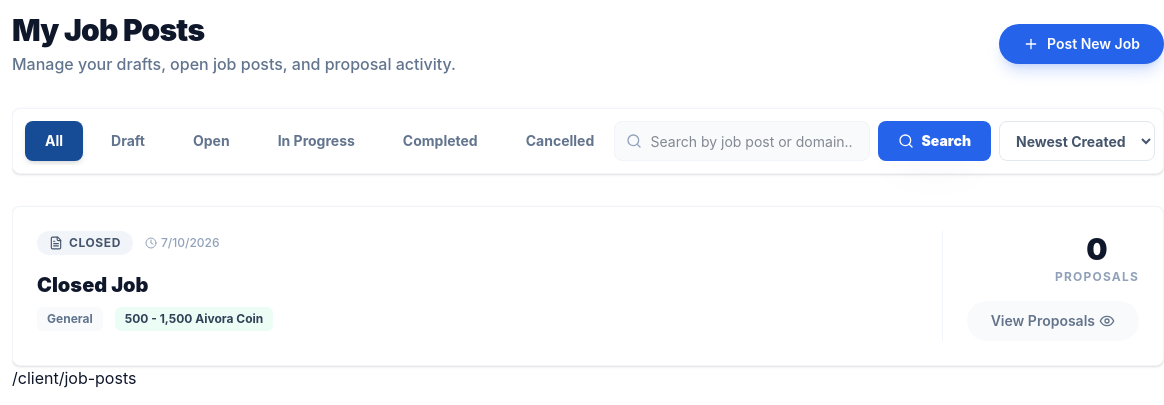
Test case: MyJobPostsPage › Title navigation › keeps closed job posts separate from cancelled job posts
Click the link "Closed Job" at point(93, 285), box [37,271,148,299]
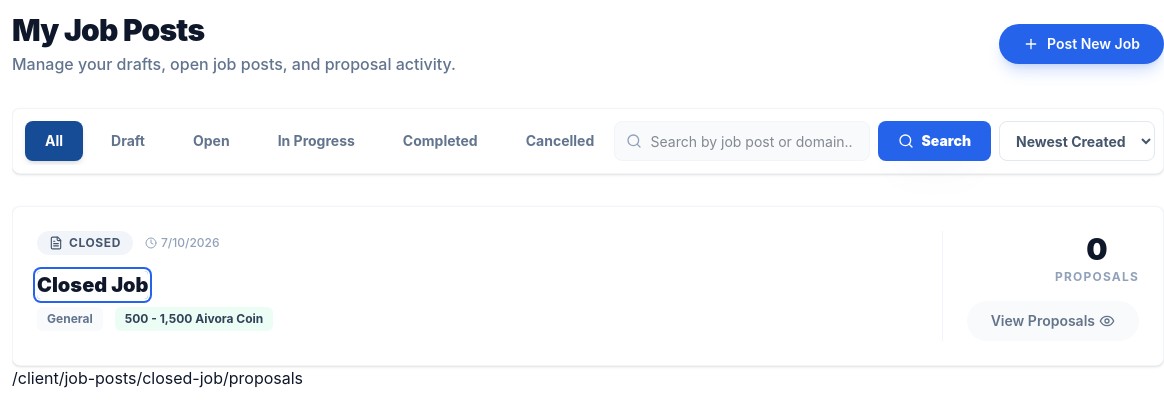
Check: the text named "current path" reads "/client/job-posts/closed-job/proposals", box [12,368,303,388]
